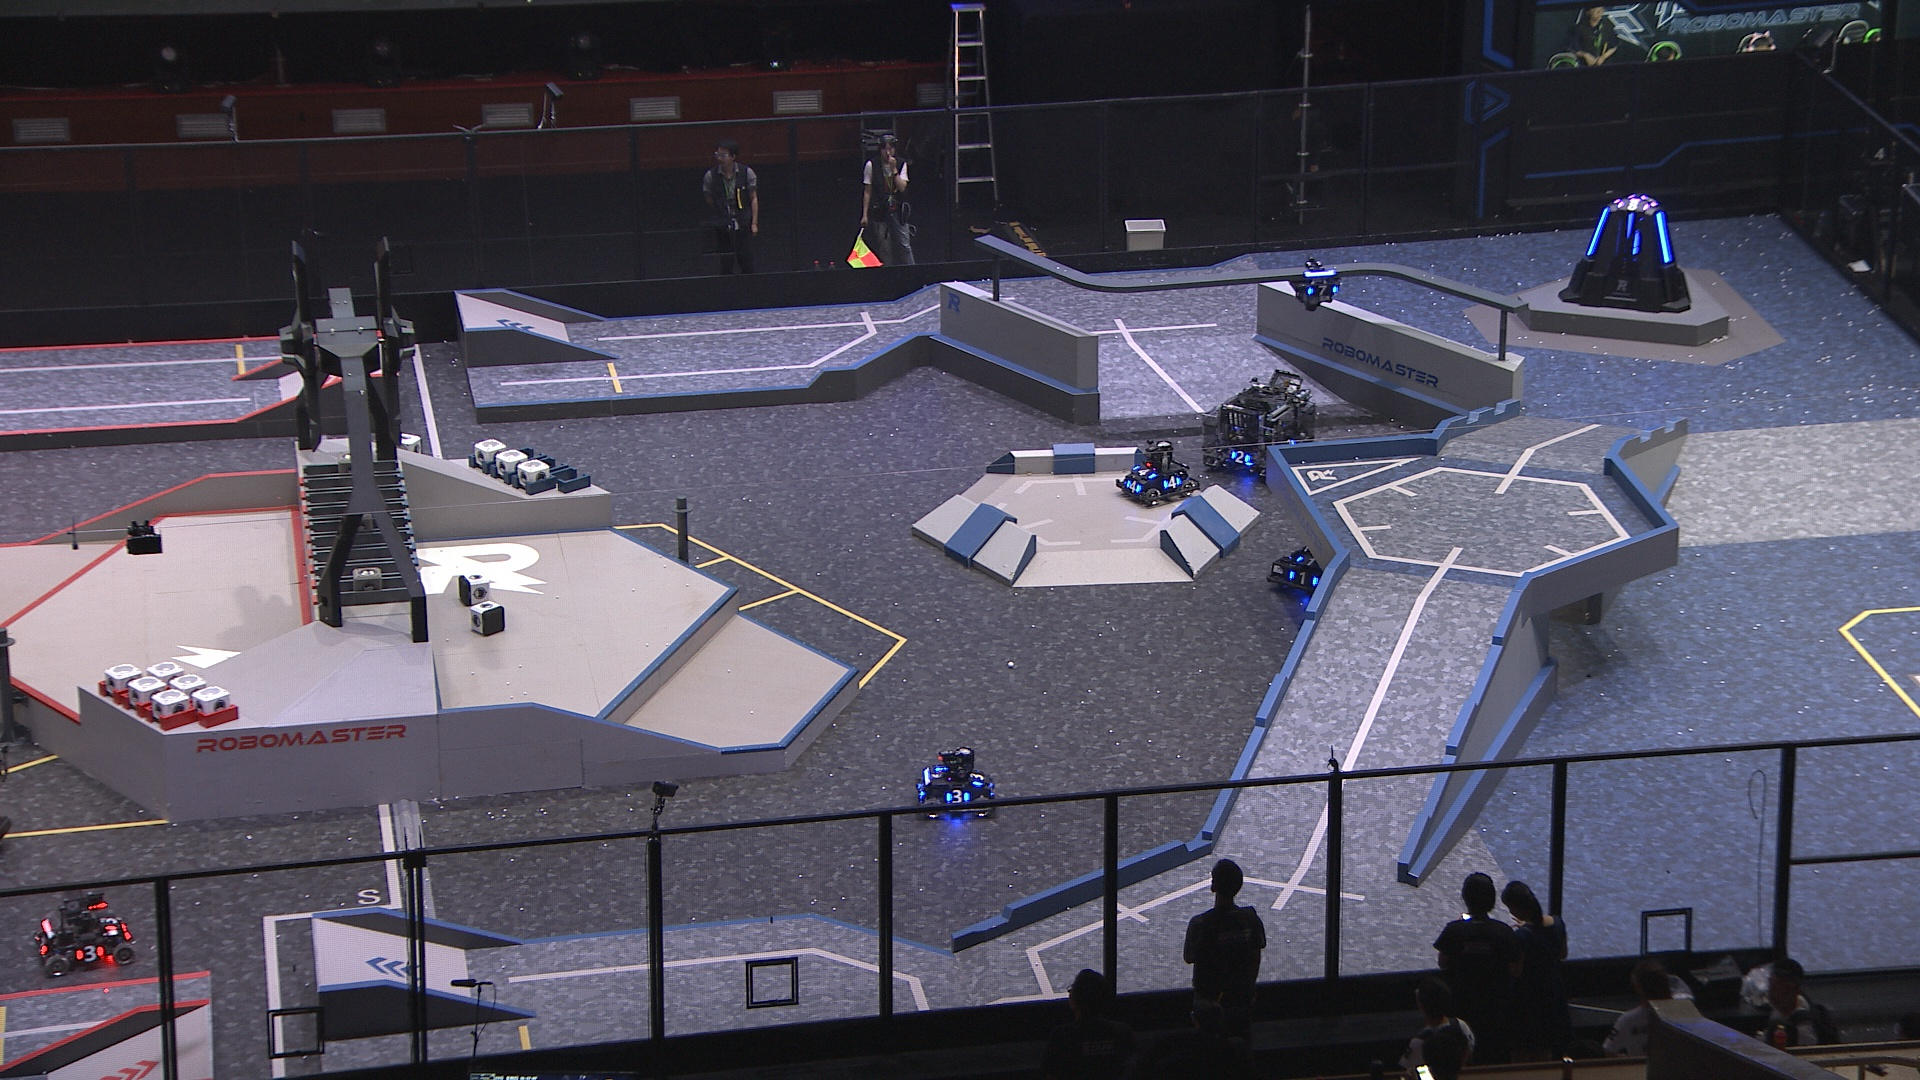armor: (1586, 206, 1614, 258), (1655, 208, 1673, 266), (73, 942, 105, 964), (1287, 570, 1323, 585), (98, 913, 121, 934), (1305, 282, 1340, 297), (1292, 553, 1321, 570), (1130, 463, 1156, 481), (942, 789, 971, 804), (1158, 473, 1185, 489), (1232, 446, 1251, 467), (968, 766, 986, 789), (928, 761, 945, 783), (36, 934, 53, 953), (1124, 476, 1141, 495), (1625, 210, 1634, 237)
base: (1557, 183, 1695, 319)
car: (1196, 368, 1320, 479), (1263, 493, 1387, 597), (29, 884, 138, 978), (1112, 434, 1203, 509), (915, 746, 1002, 822)
ignore: (1615, 196, 1650, 214)
watcher: (1287, 255, 1342, 311)
